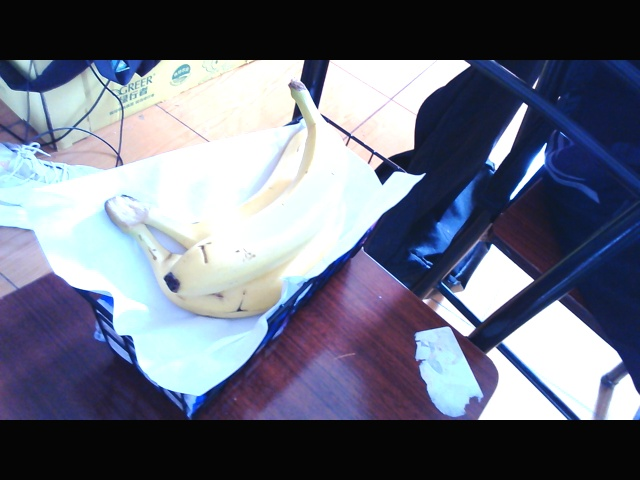banana: (143, 117, 359, 324)
